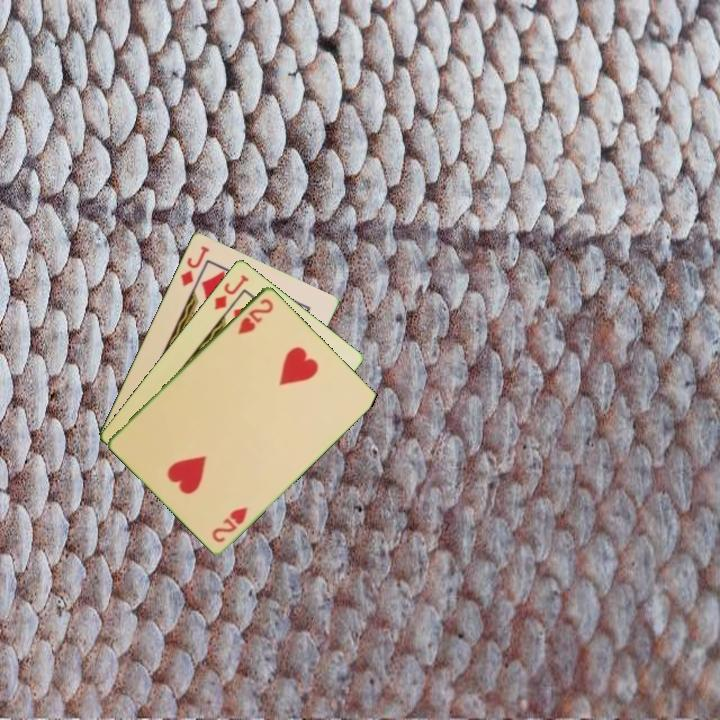2h: (234, 294, 276, 337), (208, 503, 251, 545)
Jd: (210, 270, 251, 312), (177, 242, 212, 289)
